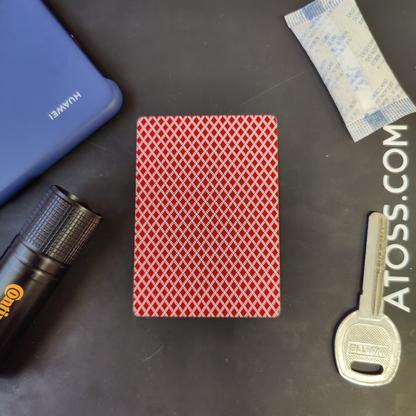card: (120, 106, 291, 323)
